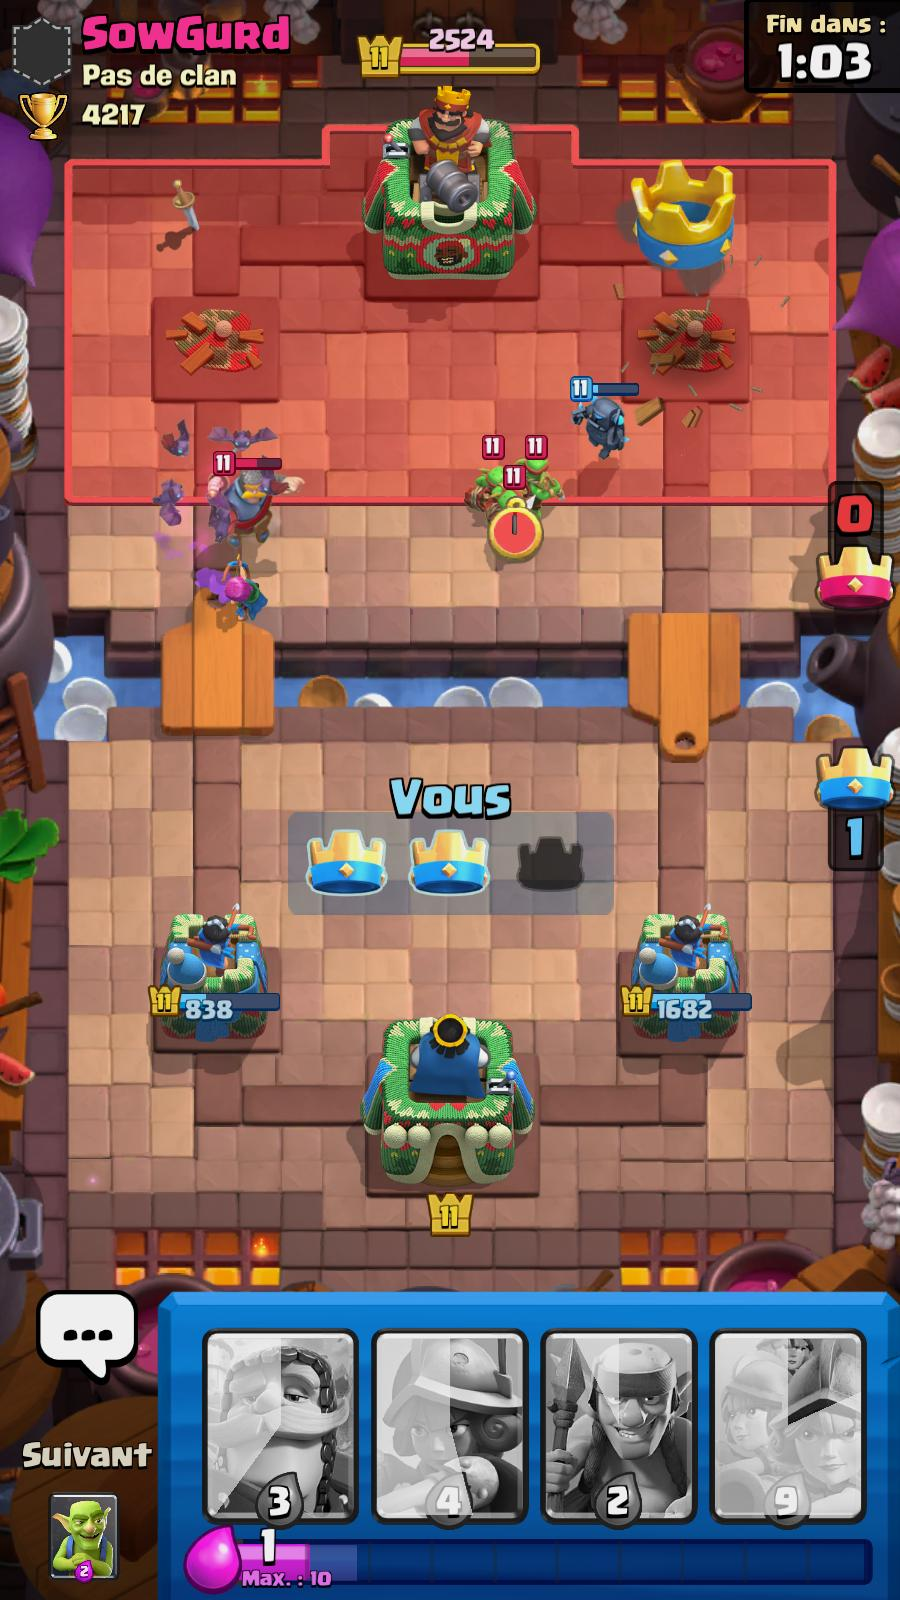archere: (218, 555, 266, 626)
bat: (146, 477, 185, 533), (205, 422, 280, 449), (204, 488, 232, 545), (158, 418, 196, 459)
chevalier: (207, 454, 303, 545)
gobelin_lances: (513, 434, 567, 516), (466, 433, 511, 513), (492, 465, 540, 536)
mini_PEKKA: (570, 373, 637, 470)
